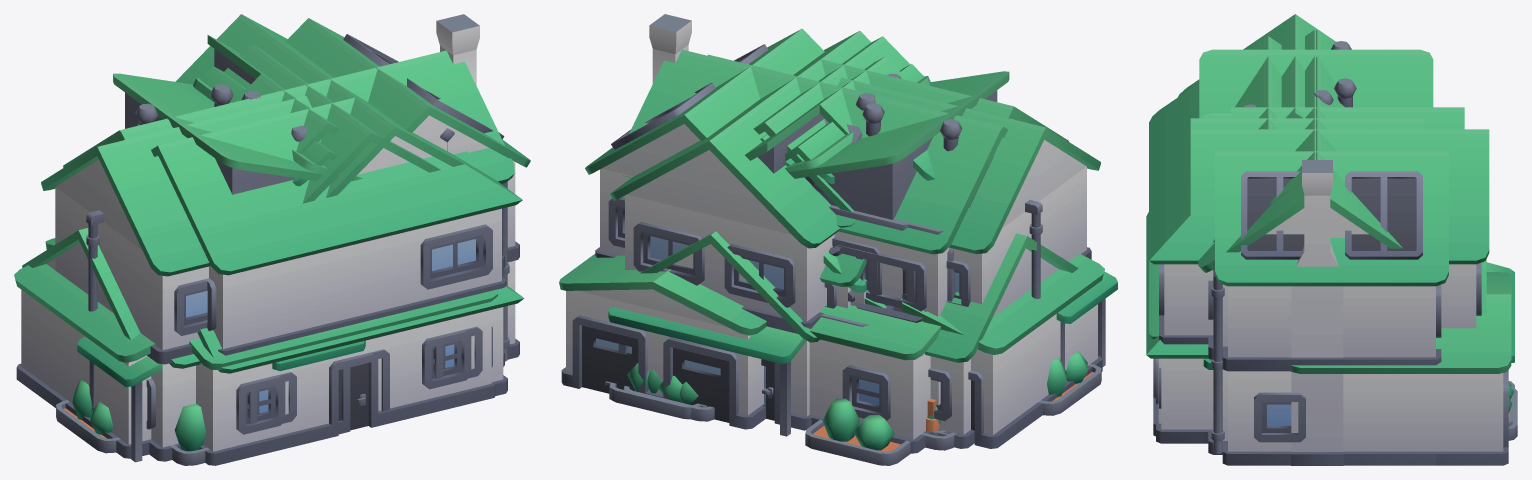
The model's file is suburban.glb.
3 views of the same model, side by side, from view 1: azimuth 30°, elevation 25°; view 2: azimuth 150°, elevation 25°; view 3: azimuth 270°, elevation 25° (orthographic). The views are drawn at different scales.
Visible parts, largest first — view 1: building-type-f, building-type-t, building-type-n, building-type-d, building-type-b, building-type-m, building-type-k, building-type-u, building-type-s, building-type-r, building-type-e, building-type-l; view 2: building-type-n, building-type-f, building-type-d, building-type-t, building-type-b, building-type-e, building-type-k, building-type-m, building-type-r, building-type-s, building-type-u, building-type-o (+4 smaller); view 3: building-type-b, building-type-f, building-type-d, building-type-n, building-type-k, building-type-u, building-type-m, building-type-r, building-type-t, building-type-s, building-type-o, building-type-e.
Boxes of the visible parts, left/top/right/bottom form: building-type-f: left=137, top=14, right=522, bottom=465; building-type-t: left=45, top=57, right=498, bottom=465; building-type-n: left=41, top=96, right=365, bottom=462; building-type-d: left=14, top=14, right=514, bottom=458; building-type-b: left=22, top=18, right=530, bottom=453; building-type-m: left=197, top=285, right=524, bottom=434; building-type-k: left=113, top=73, right=357, bottom=194; building-type-u: left=263, top=38, right=495, bottom=197; building-type-s: left=224, top=44, right=440, bottom=203; building-type-r: left=207, top=35, right=339, bottom=153; building-type-e: left=63, top=56, right=421, bottom=167; building-type-l: left=193, top=78, right=362, bottom=179; building-type-n: left=559, top=77, right=1117, bottom=446; building-type-f: left=608, top=59, right=1068, bottom=436; building-type-d: left=621, top=14, right=1104, bottom=448; building-type-t: left=623, top=54, right=1007, bottom=465; building-type-b: left=585, top=28, right=1101, bottom=448; building-type-e: left=785, top=110, right=1007, bottom=316; building-type-k: left=788, top=71, right=1009, bottom=290; building-type-m: left=609, top=231, right=819, bottom=419; building-type-r: left=745, top=56, right=908, bottom=326; building-type-s: left=753, top=36, right=909, bottom=211; building-type-u: left=720, top=31, right=956, bottom=450; building-type-o: left=690, top=56, right=914, bottom=220; building-type-b: left=1211, top=151, right=1448, bottom=465; building-type-f: left=1149, top=36, right=1514, bottom=443; building-type-d: left=1198, top=47, right=1402, bottom=465; building-type-n: left=1178, top=14, right=1511, bottom=465; building-type-k: left=1199, top=49, right=1433, bottom=118; building-type-u: left=1190, top=129, right=1424, bottom=443; building-type-m: left=1146, top=212, right=1517, bottom=443; building-type-r: left=1230, top=90, right=1464, bottom=129; building-type-t: left=1149, top=30, right=1514, bottom=436; building-type-s: left=1190, top=104, right=1424, bottom=369; building-type-o: left=1317, top=72, right=1357, bottom=198; building-type-e: left=1316, top=30, right=1335, bottom=159.
Bounding box in the file's own units: 1.83 × 1.24 × 1.43.
1 material, 1 textured.
